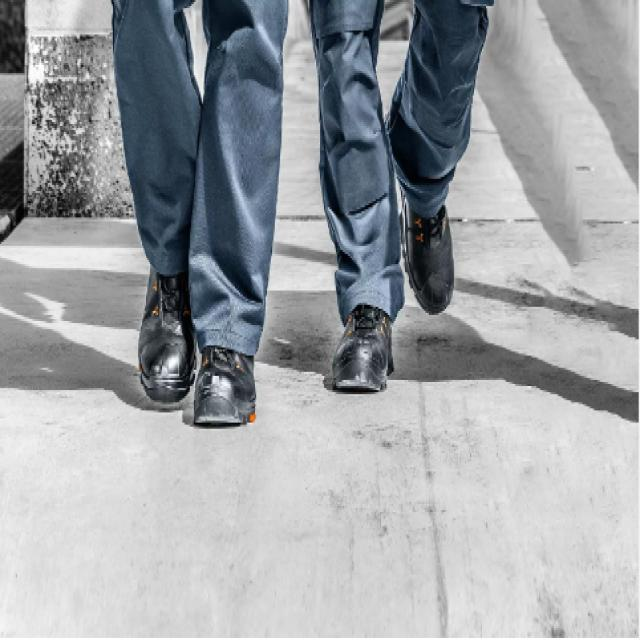shoes: (138, 268, 198, 402), (399, 194, 454, 313), (192, 345, 256, 426), (332, 305, 392, 391)
